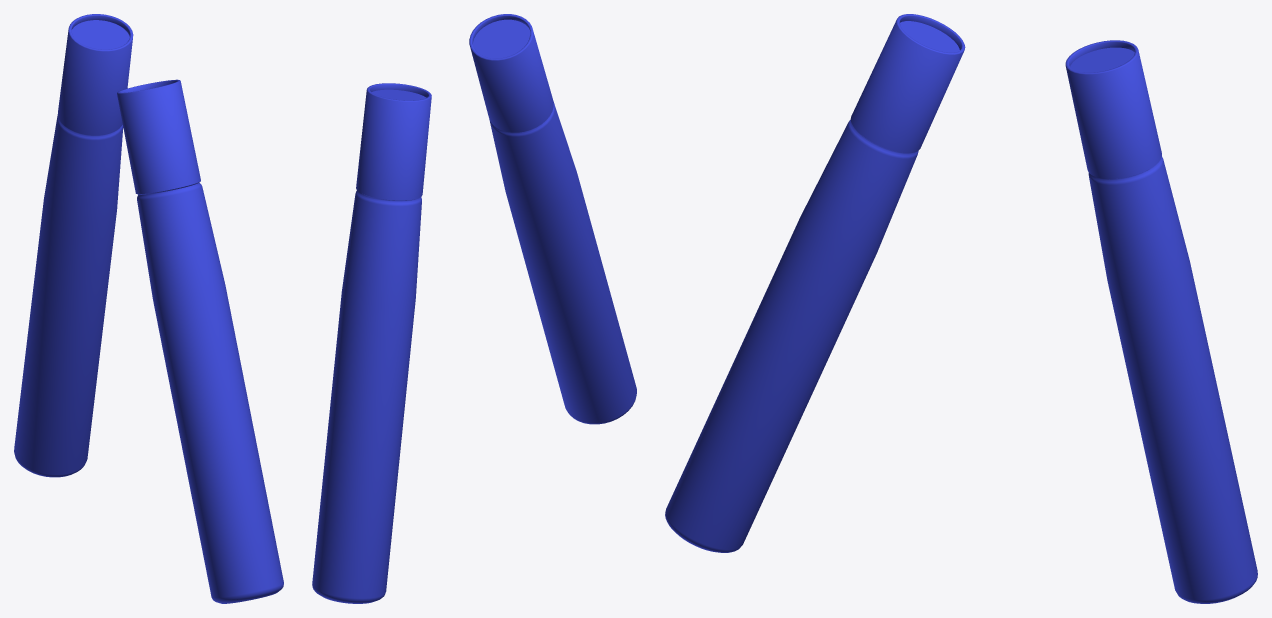
The model's file is Mango_tijeras (1).fbx.
The picture shows the model from 3 angles, left to right: view 1: azimuth 30°, elevation 25°; view 2: azimuth 150°, elevation 25°; view 3: azimuth 270°, elevation 25°; orthographic projection. The views are drawn at different scales.
Parts seen in each view (by area): view 1: Cylinder.002, Cylinder.001; view 2: Cylinder.001, Cylinder.002; view 3: Cylinder.002, Cylinder.001.
Part boxes in pixels (x1,y1,x2,y2): Cylinder.002: (117,79,283,603); Cylinder.001: (14,14,133,477); Cylinder.001: (312,83,431,603); Cylinder.002: (469,14,636,424); Cylinder.002: (665,14,965,552); Cylinder.001: (1065,40,1257,603).
Size of the model in its own units: 6.79 by 34.76 by 33.44.
